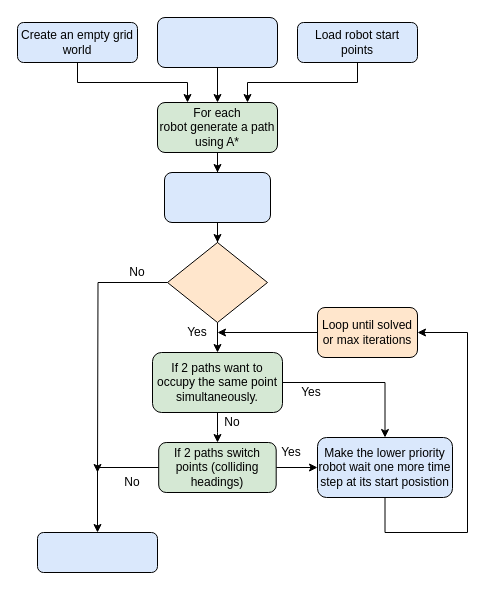
Image size: 493x590. Some labels were removed from this diagram. The shapes that lost their labels are listed below. From the top down, each one's box as (x1, y1, x2, y2) in pixels, then its label:
(156, 16, 278, 68): Load obstacle locations into grid world
(164, 172, 270, 222): Assign priorities biased on path lengths
(166, 242, 268, 322): Avoid collisions selected?
(36, 532, 158, 572): Create Animation
